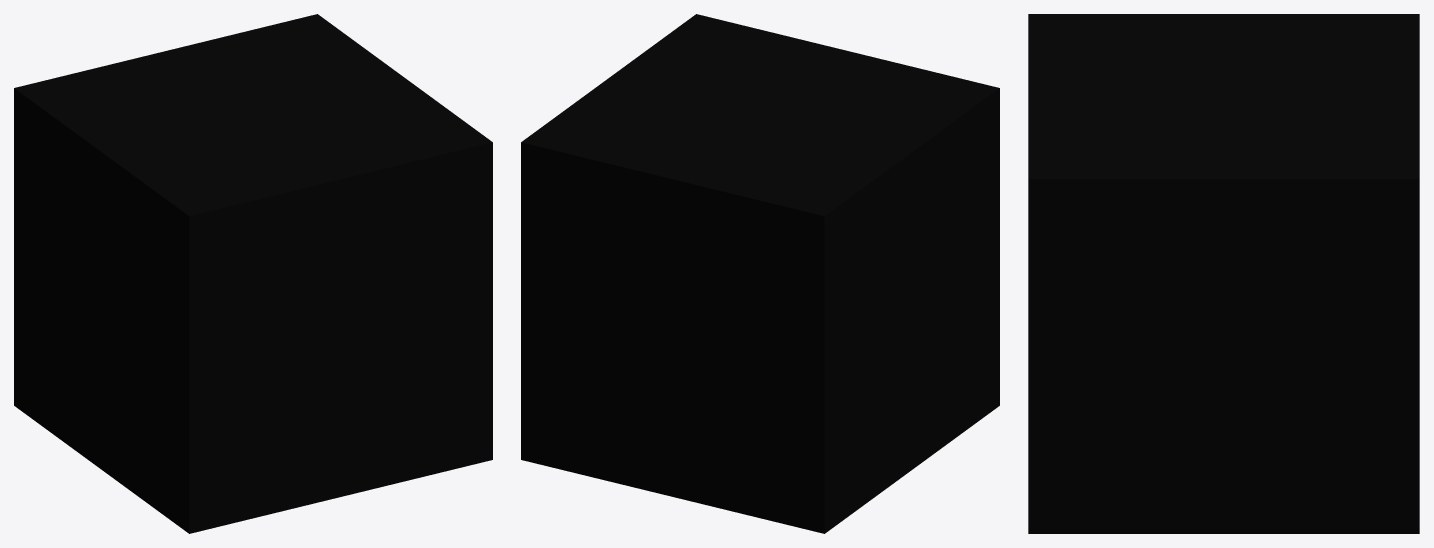
The model's file is handle.glb.
3 renders of one model, left to right at view 1: azimuth 30°, elevation 25°; view 2: azimuth 150°, elevation 25°; view 3: azimuth 270°, elevation 25°, orthographic. The views are drawn at different scales.
Visible parts, largest first — view 1: 円柱001; view 2: 円柱001; view 3: 円柱001.
Boxes of the visible parts, x1,y1,x2,y2 form: 円柱001: [14, 14, 492, 533]; 円柱001: [521, 14, 999, 533]; 円柱001: [1028, 14, 1419, 533].
Bounding box in the file's own units: 0.5883 × 0.5883 × 0.5883.
Materials: 3 (1 with a texture image).
